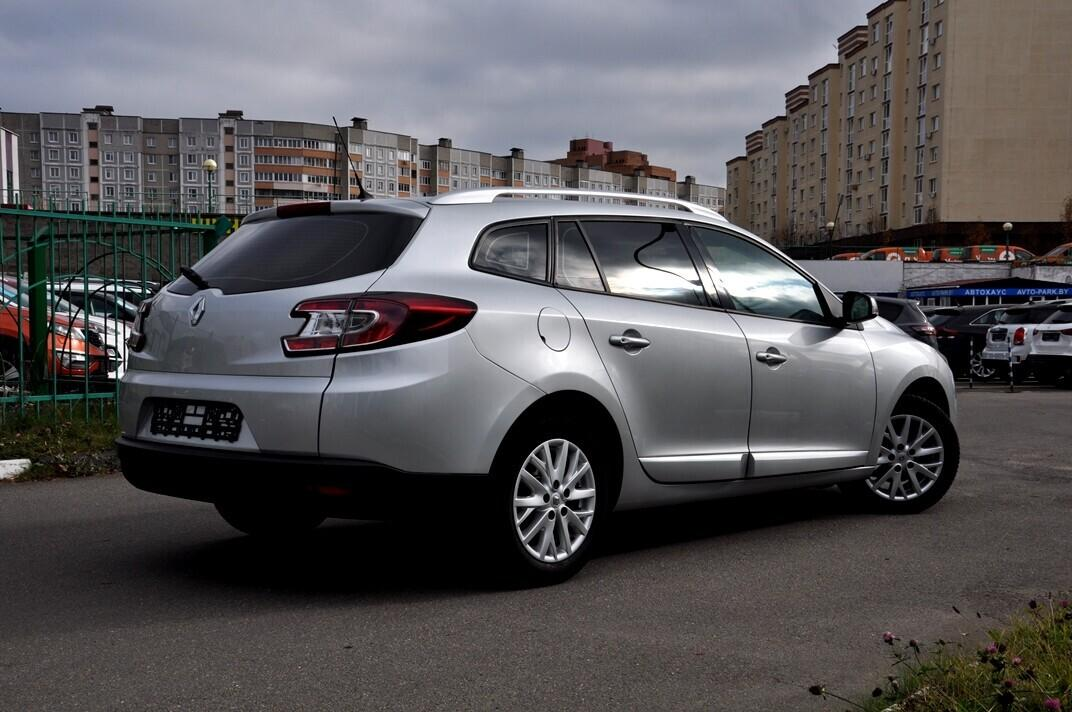Megane_2014-2016: (115, 188, 971, 556)
